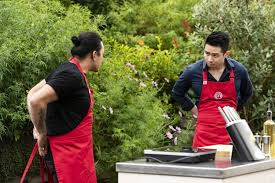Caution: (27, 27, 253, 150)
